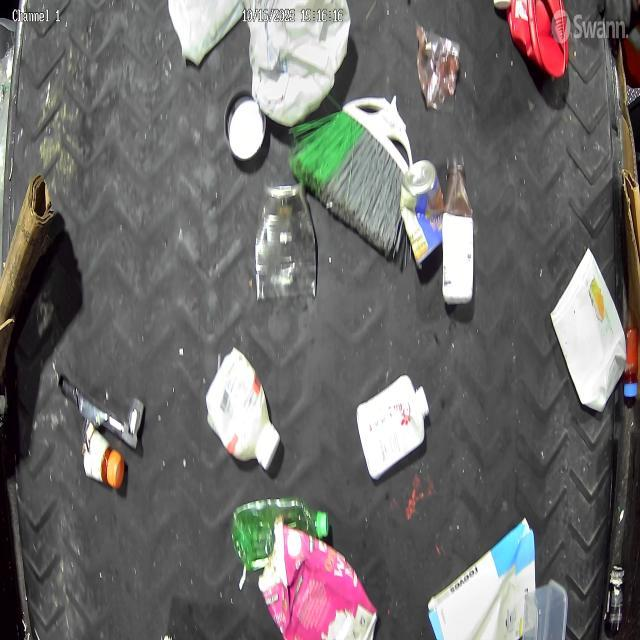can: (253, 176, 318, 306), (398, 158, 446, 272), (224, 88, 268, 162)
milk_jug: (243, 0, 351, 129), (167, 0, 247, 67)
non_white_jug: (258, 520, 380, 640), (506, 0, 570, 78)
